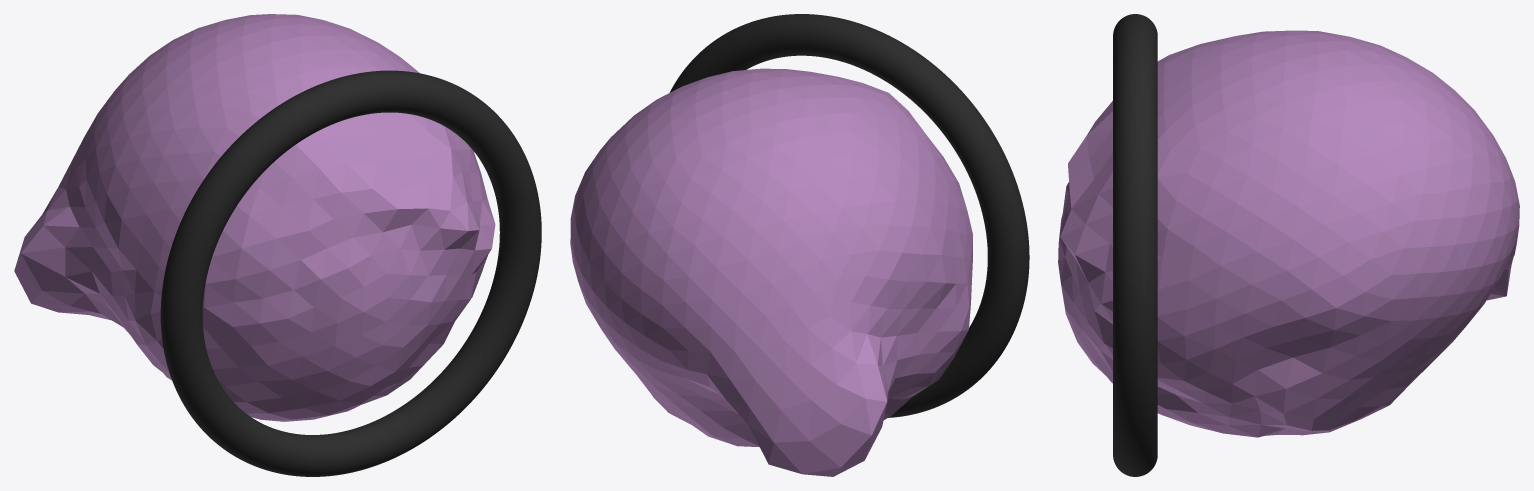
The picture shows the model from 3 angles, left to right: view 1: azimuth 30°, elevation 25°; view 2: azimuth 150°, elevation 25°; view 3: azimuth 270°, elevation 25°; orthographic projection. The views are drawn at different scales.
Parts seen in each view (by area): view 1: polyp_body_inferred_base_gray, fixed_CAD_Ring; view 2: polyp_body_inferred_base_gray, fixed_CAD_Ring; view 3: polyp_body_inferred_base_gray, fixed_CAD_Ring.
Boxes of the visible parts, <box> form: polyp_body_inferred_base_gray: <box>14,14,495,421</box>; fixed_CAD_Ring: <box>160,70,541,476</box>; polyp_body_inferred_base_gray: <box>570,68,972,476</box>; fixed_CAD_Ring: <box>669,14,1029,417</box>; polyp_body_inferred_base_gray: <box>1058,30,1519,437</box>; fixed_CAD_Ring: <box>1113,14,1157,476</box>.
Bounding box in the file's own units: 0.0124 × 0.0124 × 0.0124.
